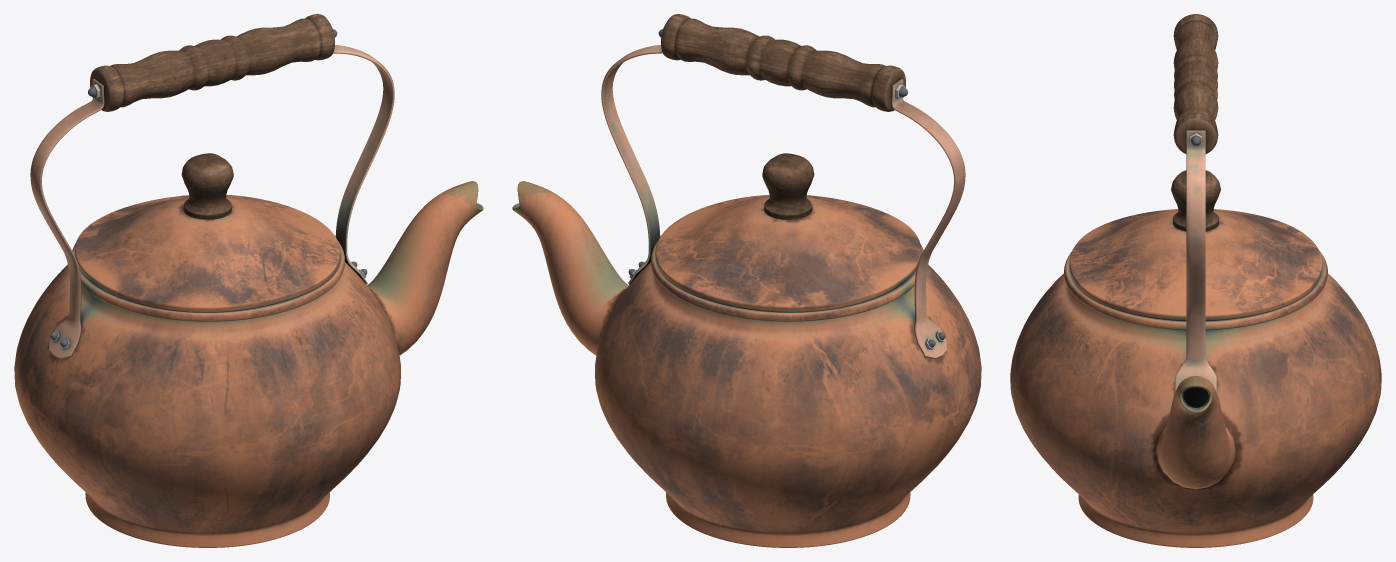
File: teapot.glb
3 renders of one model, left to right at view 1: azimuth 30°, elevation 25°; view 2: azimuth 150°, elevation 25°; view 3: azimuth 270°, elevation 25°, orthographic. The views are drawn at different scales.
Parts seen in each view (by area): view 1: pot_body, pot_lid, handle_grip, handle_curve (×2), pot_lid_nub; view 2: pot_body, pot_lid, handle_grip, handle_curve (×2), pot_lid_nub; view 3: pot_body, pot_lid, handle_grip, handle_curve, pot_lid_nub.
Boxes of the visible parts, left/top/right/bottom form: pot_body: left=14, top=181, right=483, bottom=547; pot_lid: left=74, top=194, right=340, bottom=312; handle_grip: left=90, top=14, right=334, bottom=111; handle_curve (×2): left=30, top=45, right=394, bottom=358; pot_lid_nub: left=181, top=153, right=233, bottom=219; pot_body: left=512, top=181, right=981, bottom=547; pot_lid: left=655, top=194, right=921, bottom=312; handle_grip: left=661, top=14, right=905, bottom=111; handle_curve (×2): left=601, top=45, right=965, bottom=358; pot_lid_nub: left=762, top=153, right=814, bottom=219; pot_body: left=1010, top=251, right=1381, bottom=547; pot_lid: left=1069, top=209, right=1322, bottom=320; handle_grip: left=1173, top=14, right=1218, bottom=153; handle_curve: left=1175, top=130, right=1216, bottom=390; pot_lid_nub: left=1171, top=170, right=1220, bottom=231.
Size of the model in its own units: 10.33 by 9.97 by 7.7.
Materials: 1 (1 with a texture image).
